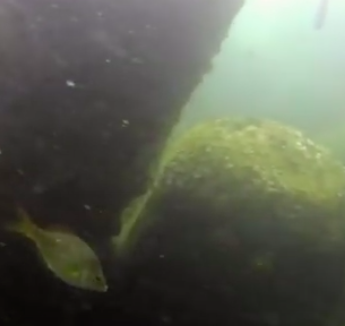smallfish: (9, 203, 116, 297)
